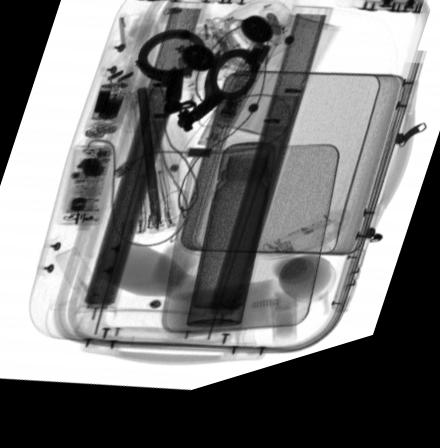Baton: (198, 47, 280, 161)
HandCuffs: (133, 37, 260, 142)
